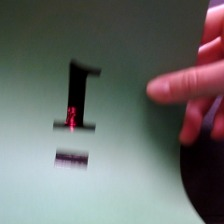green1: (44, 51, 110, 174)
